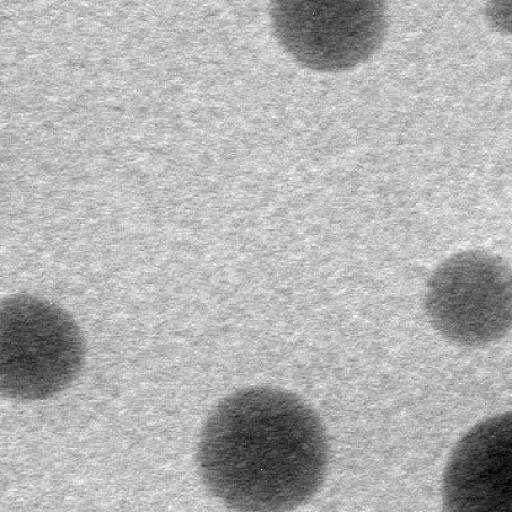Nanoparticles: (195, 383, 332, 512), (0, 288, 88, 402), (270, 0, 394, 73), (423, 248, 512, 345), (443, 411, 512, 512)
